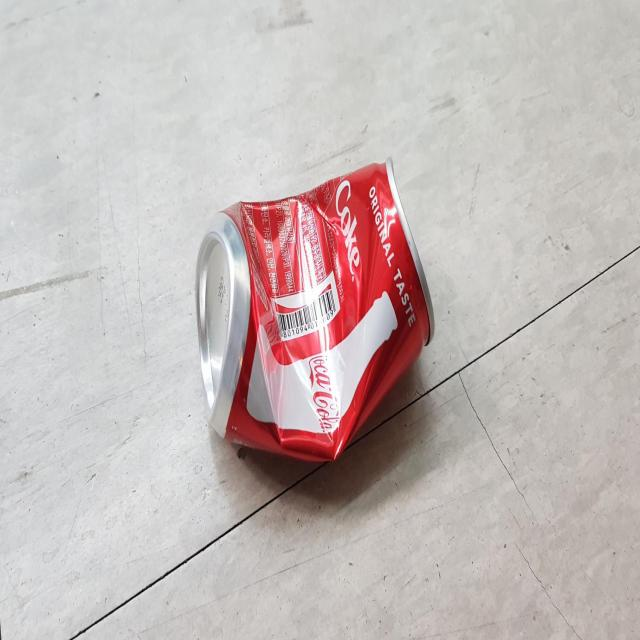can: (196, 158, 434, 461)
